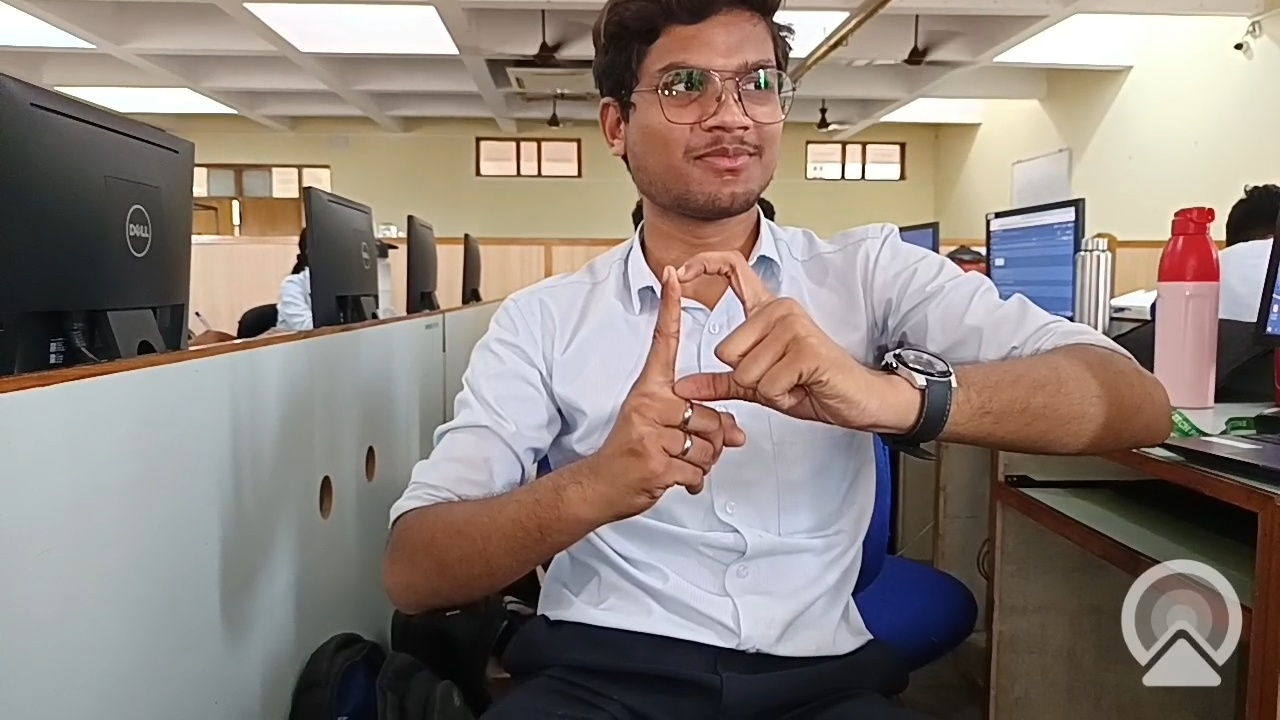D: (629, 236, 876, 445)
